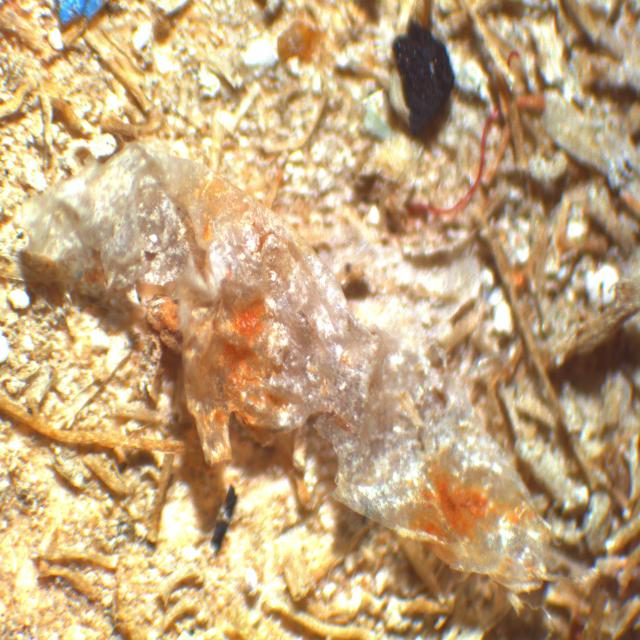microplastic: (11, 136, 552, 591), (407, 105, 506, 218)
